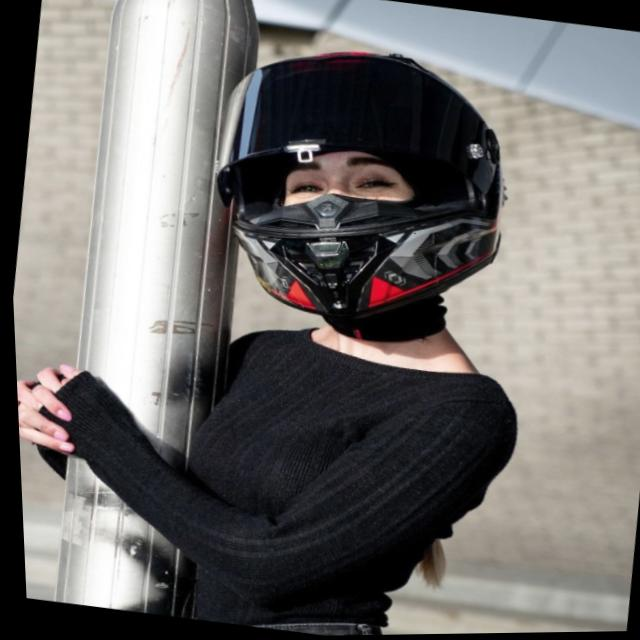helmet: (186, 22, 536, 360)
